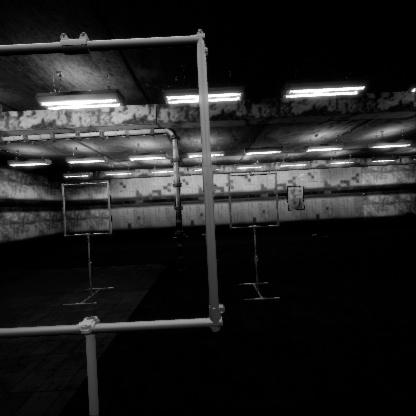gate: (227, 186, 283, 244), (62, 178, 116, 234)
